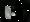person: (6, 7, 12, 20), (12, 7, 18, 16)
